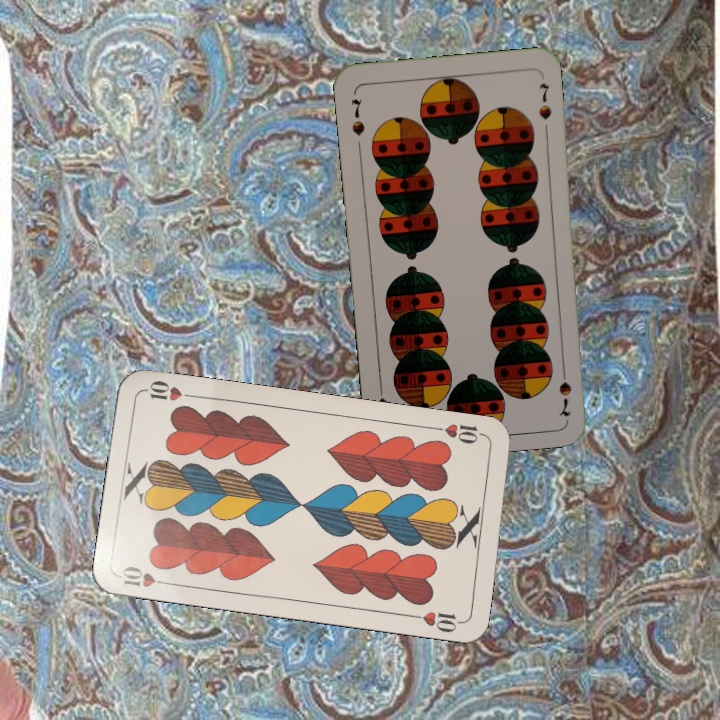H10: (429, 419, 488, 447), (118, 562, 175, 590)
S7: (555, 361, 574, 419), (347, 94, 367, 138)
